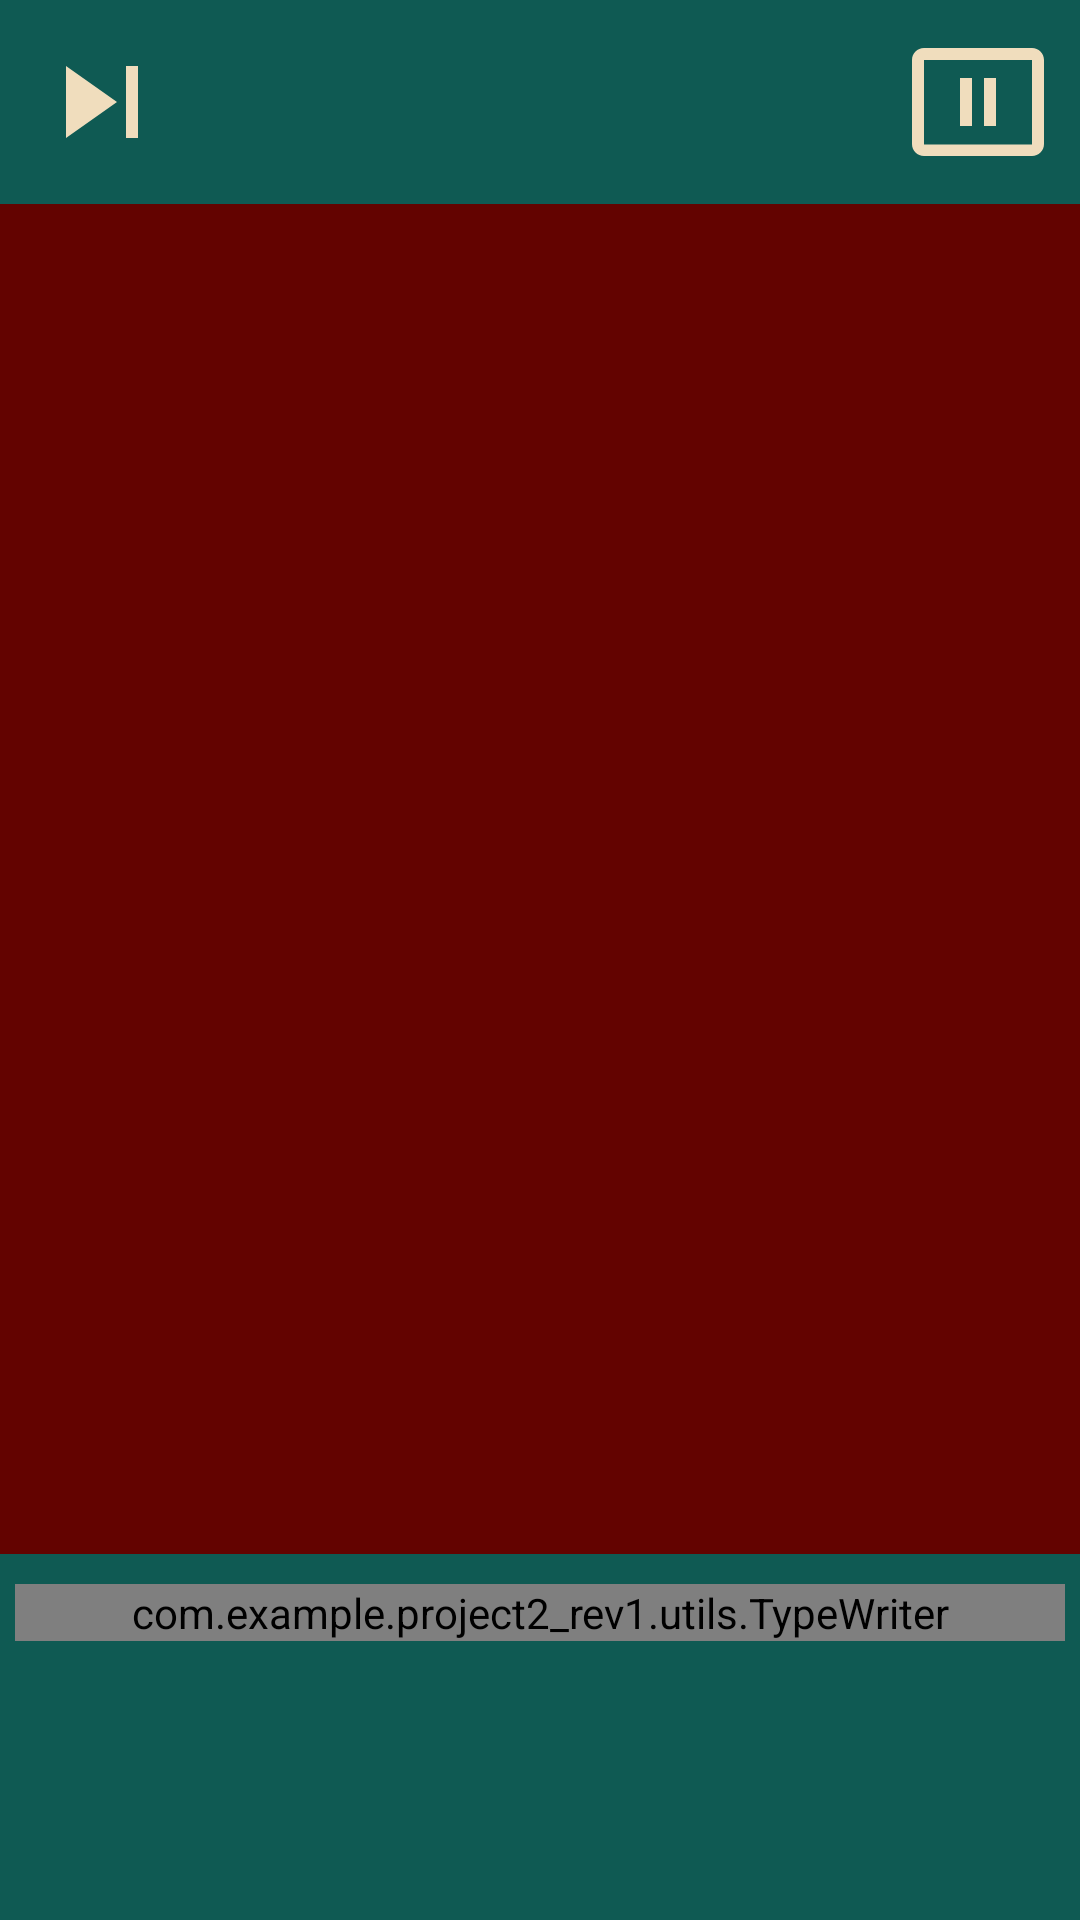

Icons on this 1080w x 1920h Android screen, each with its box as box(x1, y1, x2, y2):
pause: box(912, 48, 1044, 156)
skip: box(66, 66, 138, 138)
